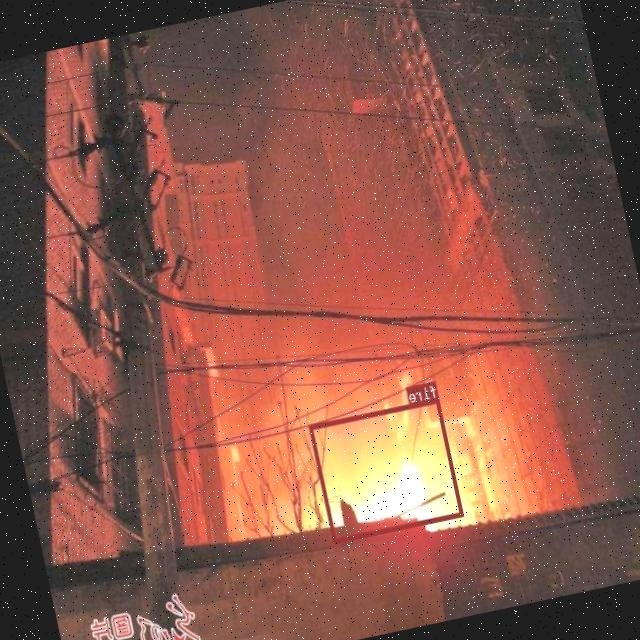fire: (309, 396, 464, 542)
